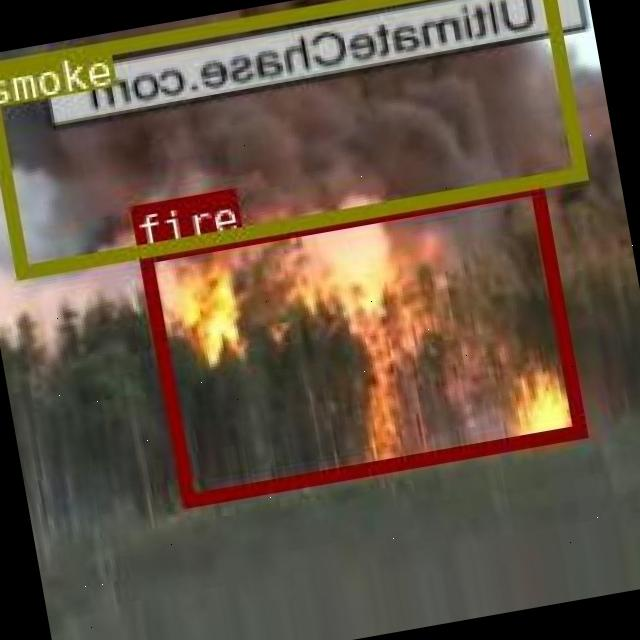fire: (137, 180, 585, 504)
smoke: (0, 0, 583, 277)
